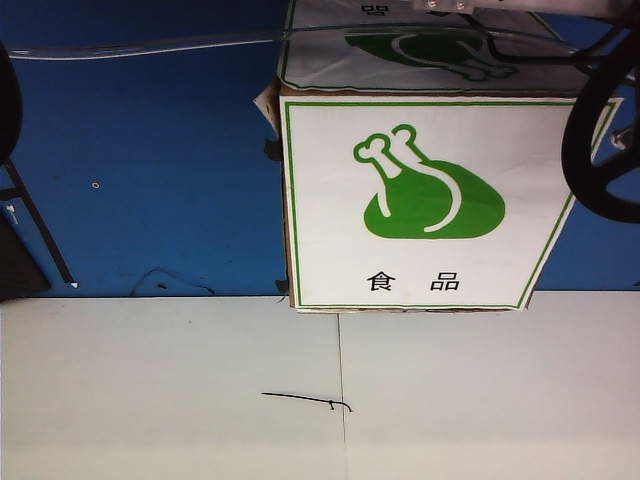Cube_food: (354, 121, 510, 306)
